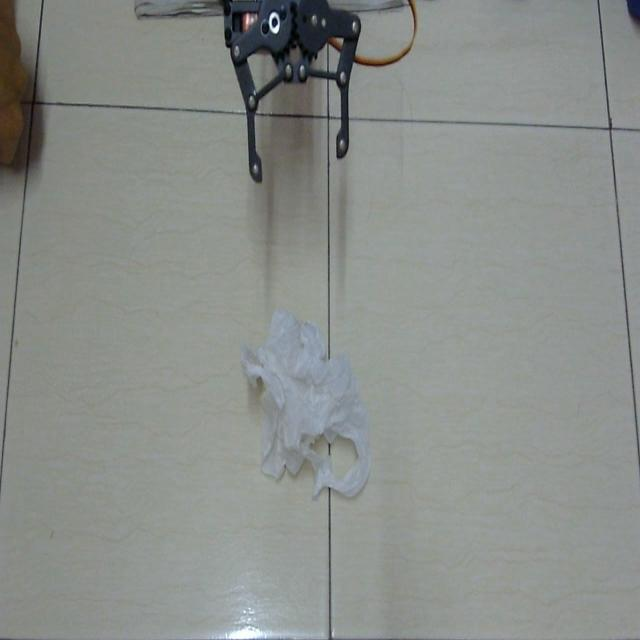plastic_laydown_0rotation: (240, 306, 372, 504)
